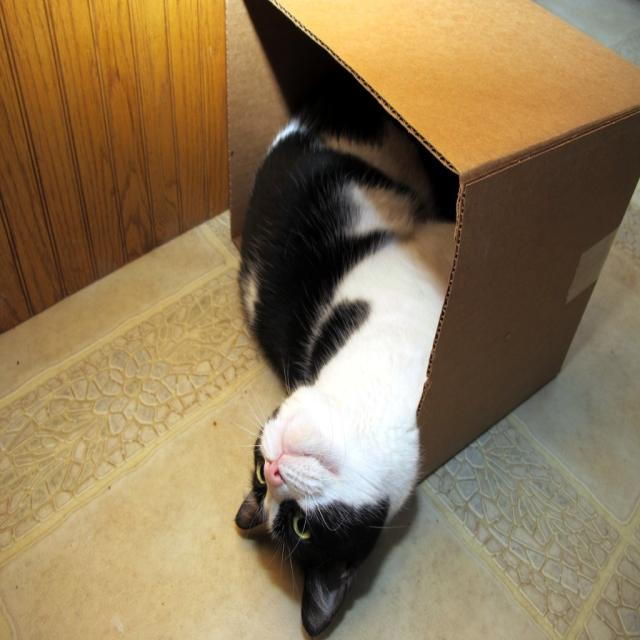Cat: (233, 106, 454, 638)
